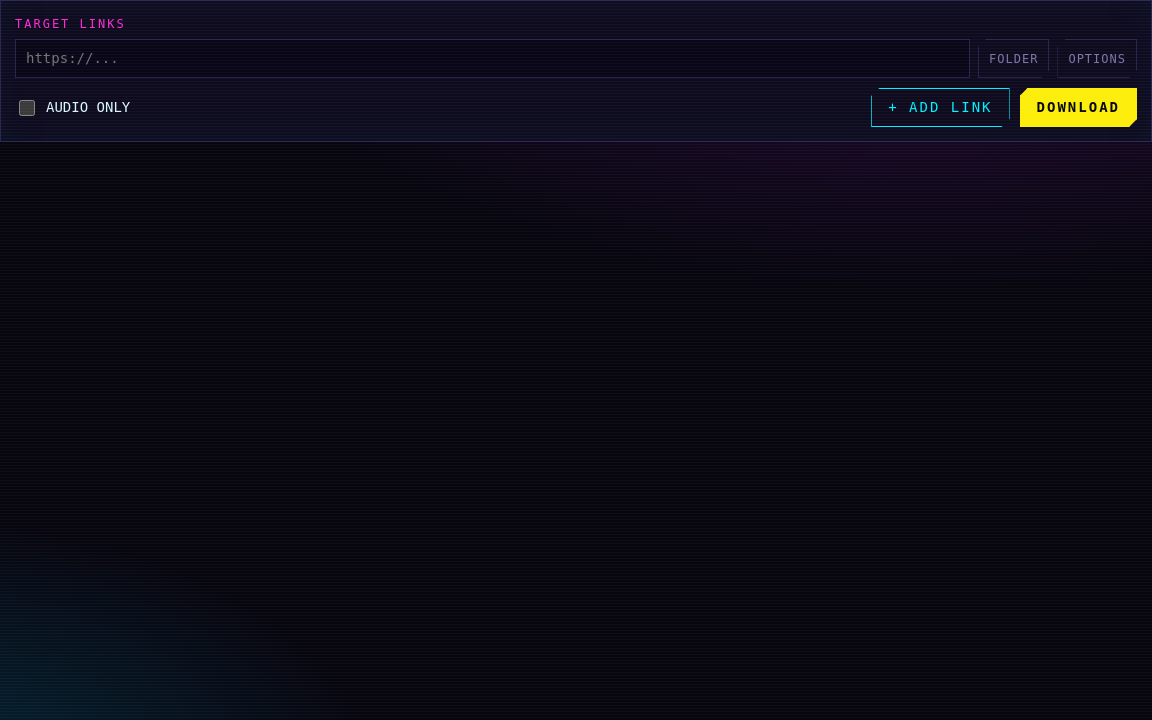
UrlInput rows › removes the chosen row and keeps the values of the others
The width and height of the screenshot is (1152, 720).
Click the button "+ ADD LINK" at (940,108), box [871,88,1010,127]
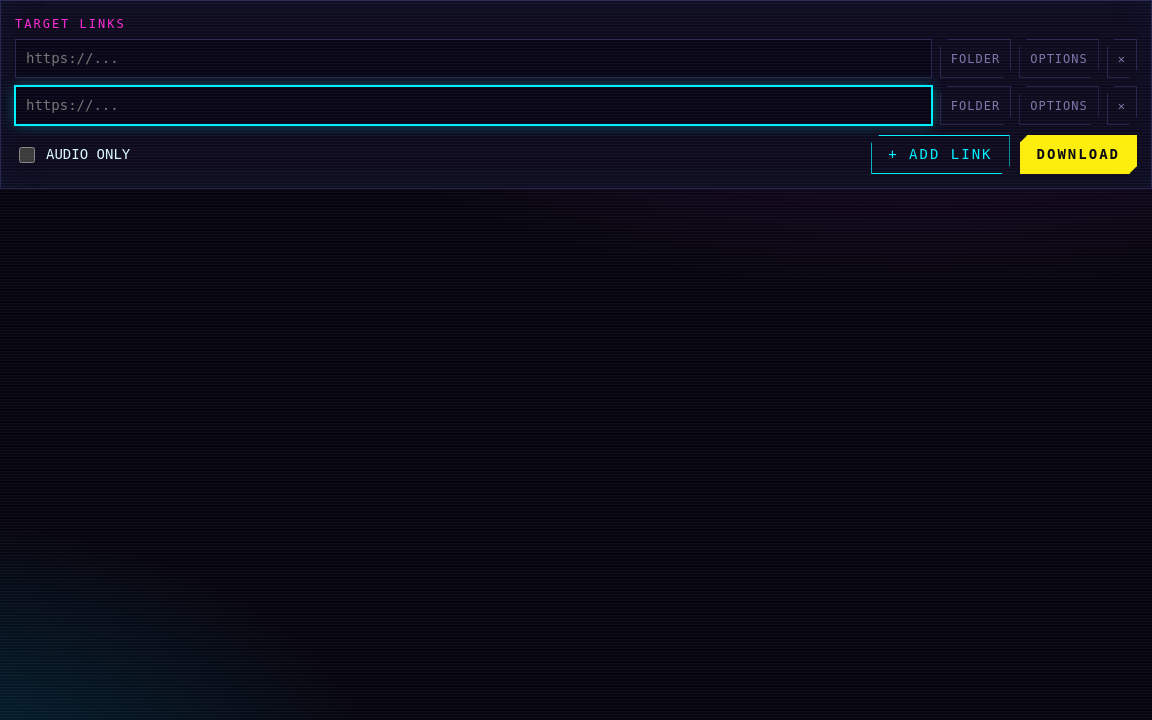
Click the button "+ ADD LINK" at (940,154), box [871,135,1010,174]
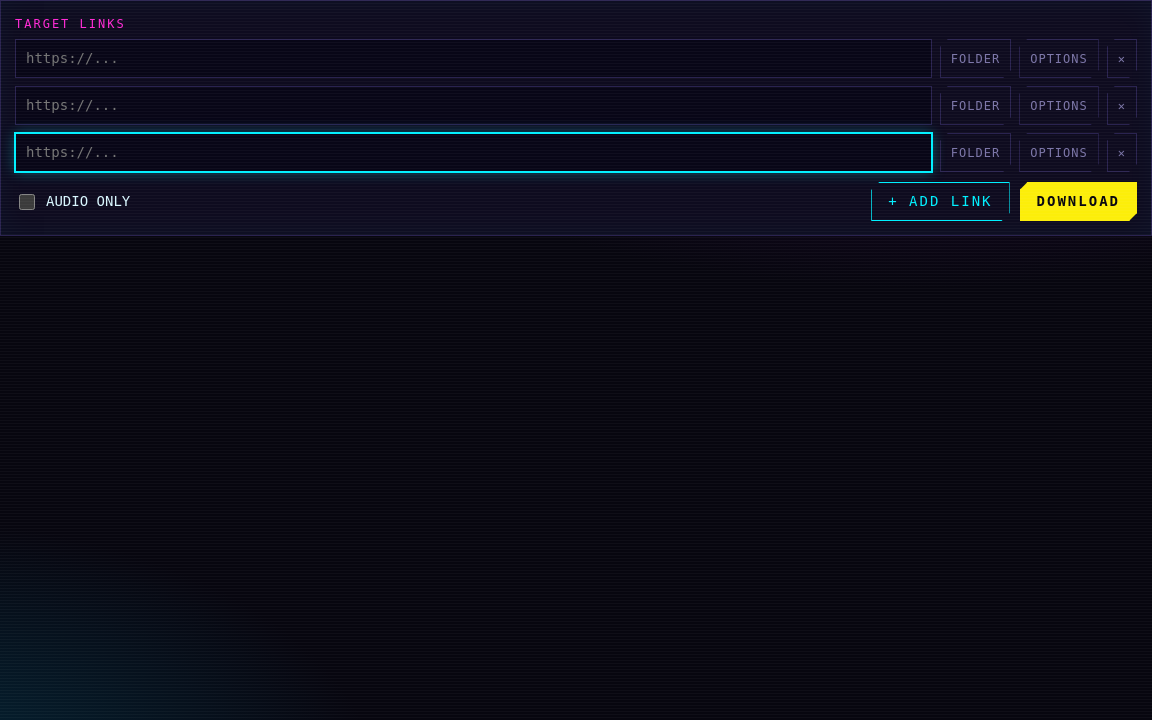
Type "https://a.com" into the 1st field with placeholder "https://..." at (473,58), box [15,39,932,78]
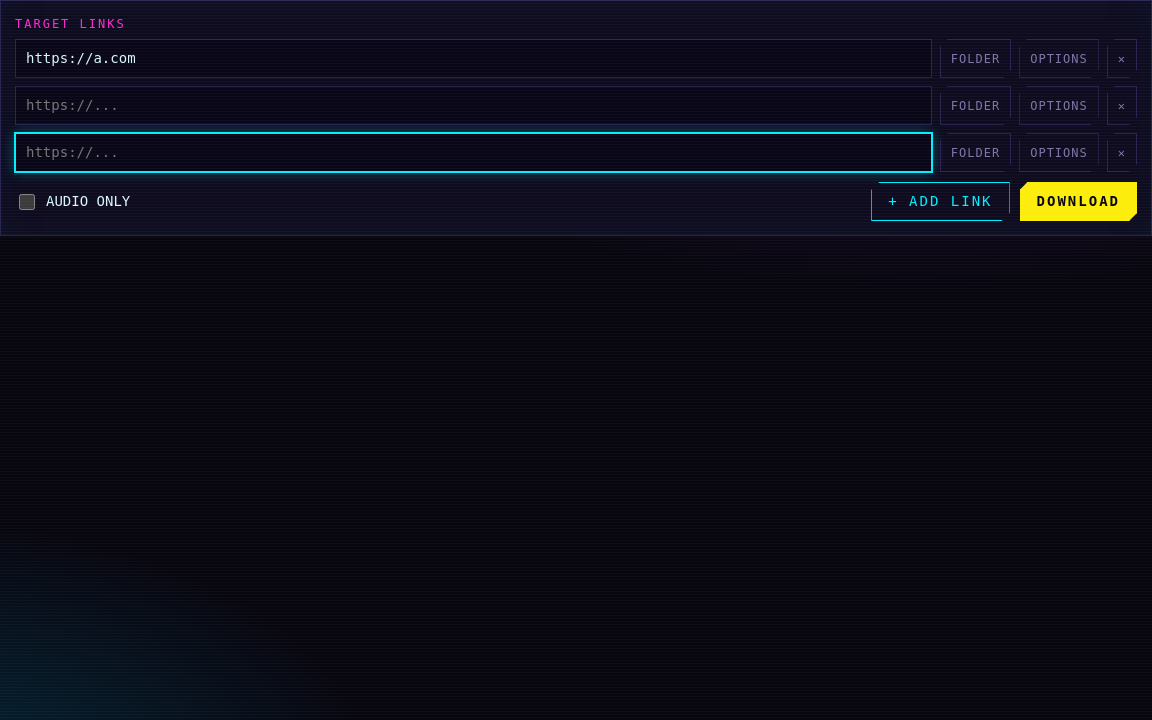
Type "https://b.com" into the field named "Link 2" at (473,106), box [15,86,932,125]
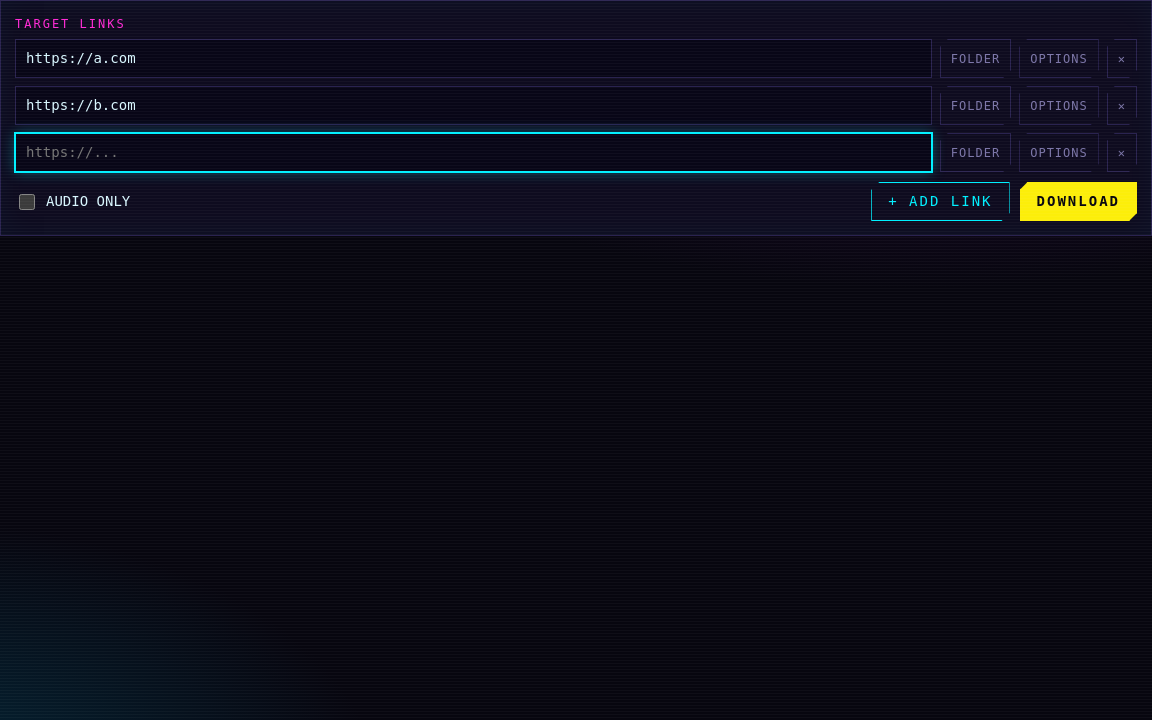
Type "https://c.com" into the field with placeholder "https://..." at (473,152), box [15,133,932,172]
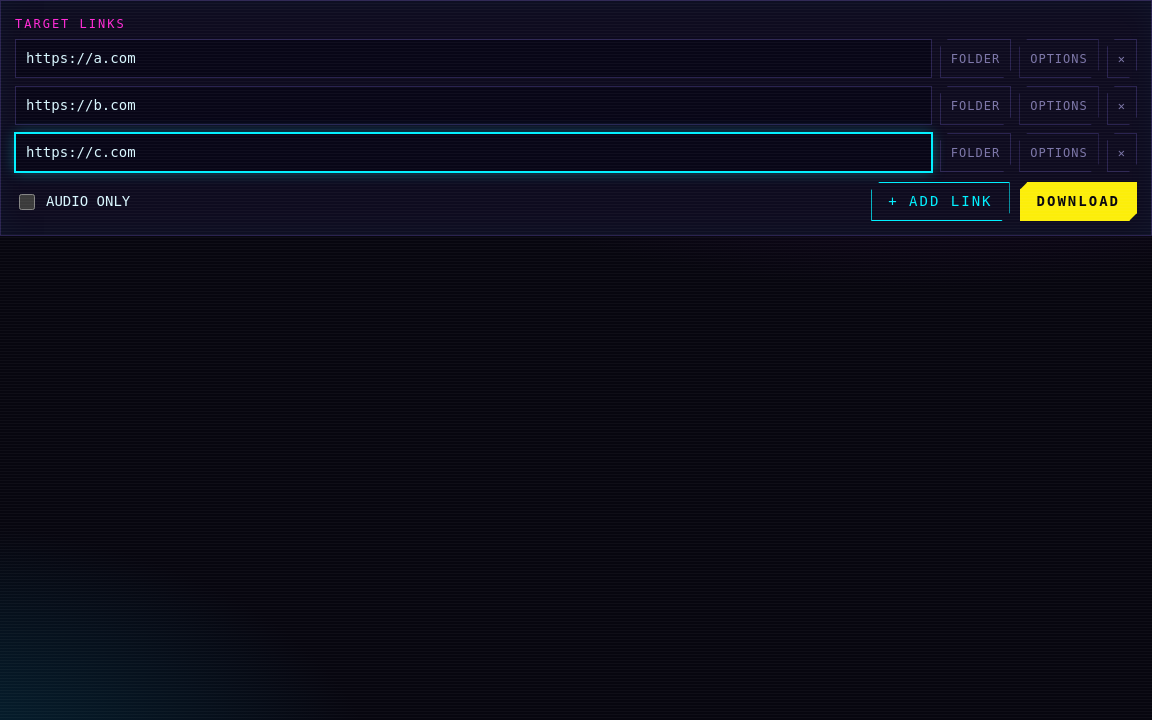
Click the button named "Remove link 2" at (1122,106), box [1107,86,1137,125]
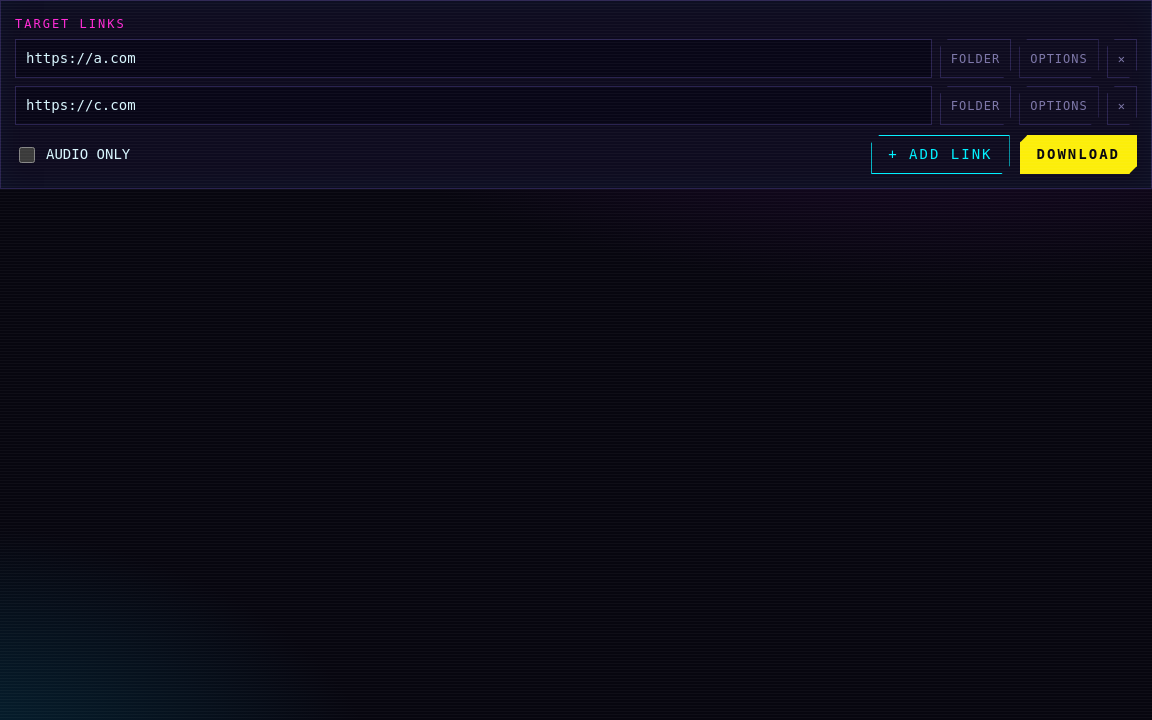
Expected: the number of fields named "Link 1" is 2, [15,39,932,78]; [15,86,932,125]
